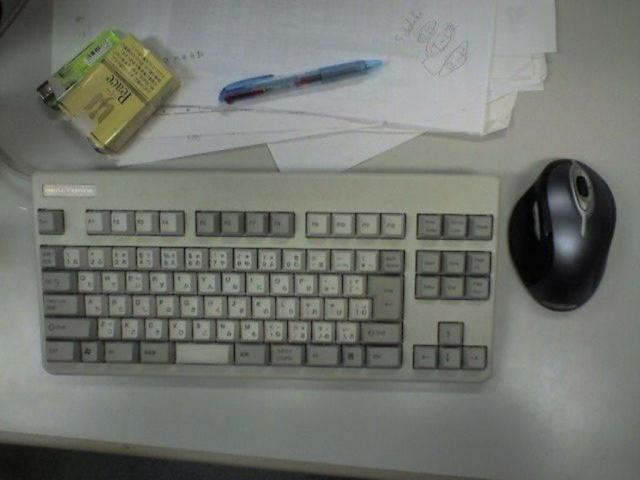PEN: (209, 55, 388, 110)
